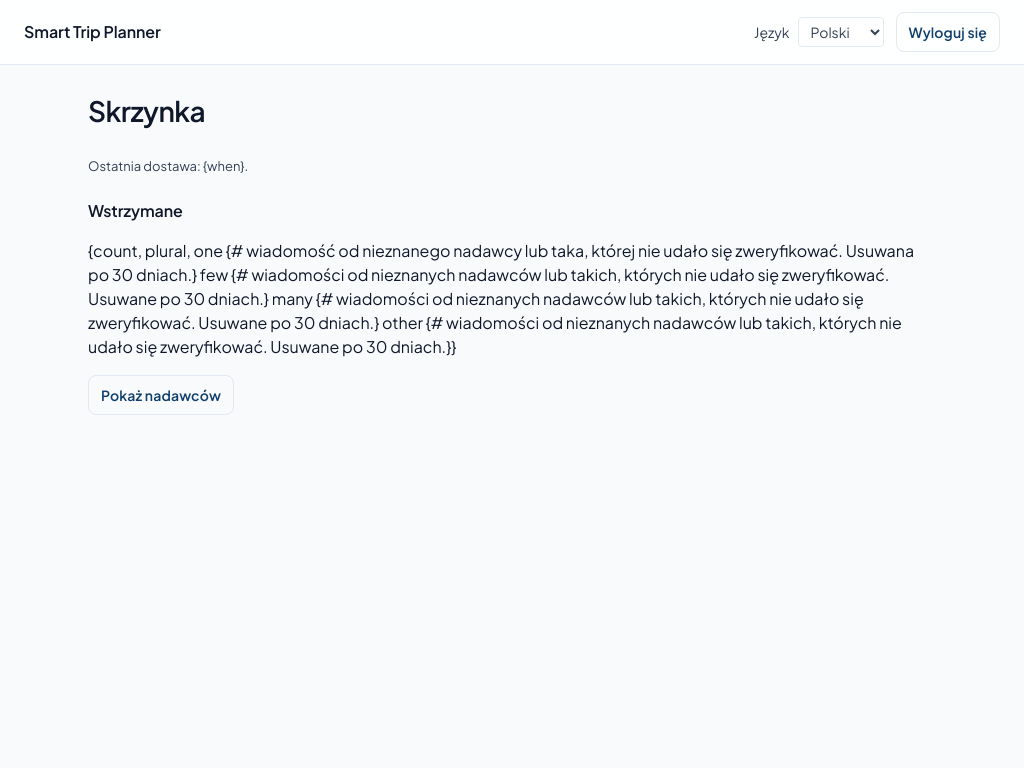
it: quarantine › offers neither recovery for a failed scan
Click the button "Pokaż nadawców": {"x": 161, "y": 395} [88,375,234,415]
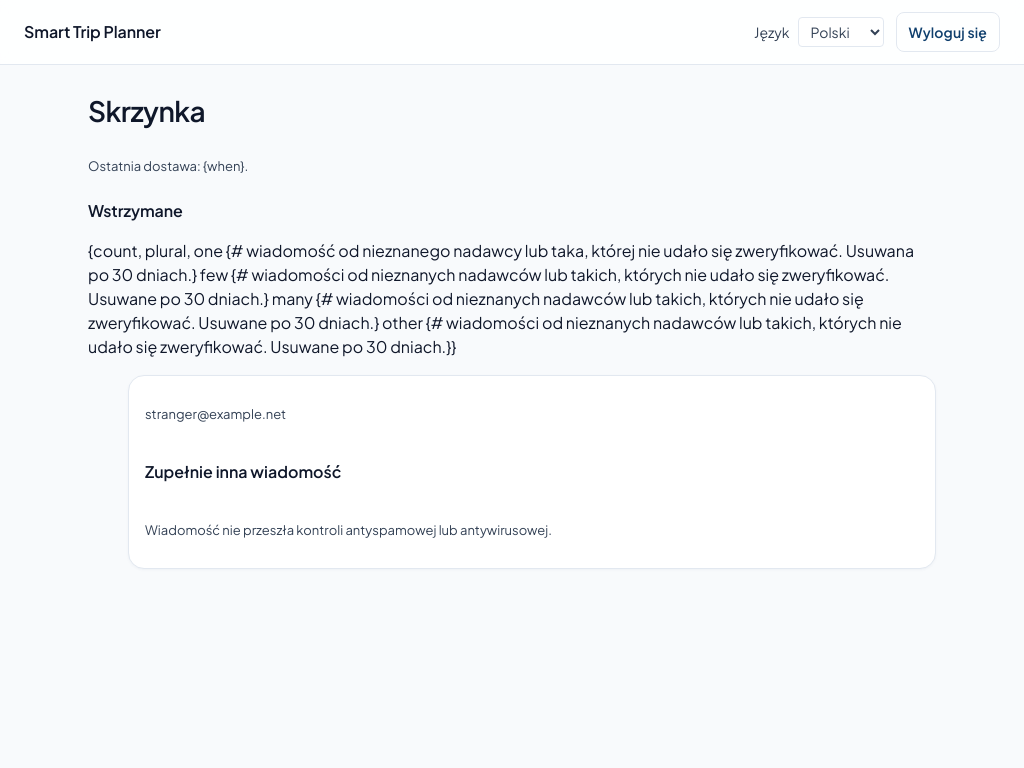
Now the text "nie przeszła kontroli" is shown, box [145,522,552,538]
